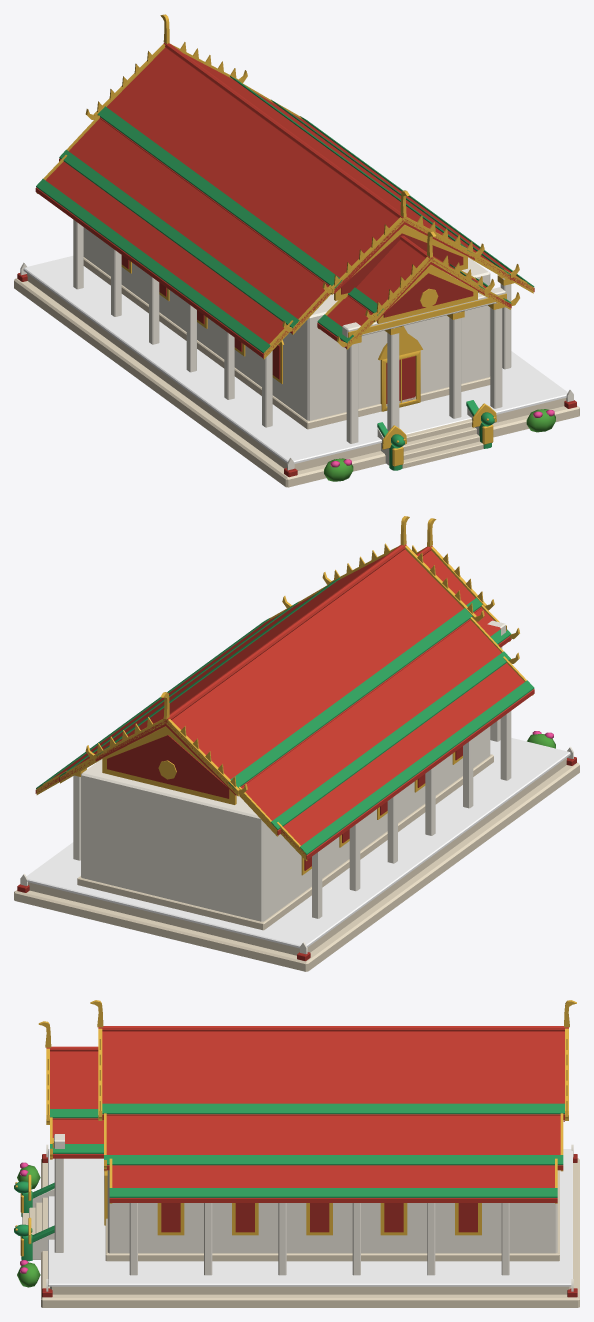
Rendered from bld_temple.glb.
3 renders of one model, top to bottom at view 1: azimuth 30°, elevation 25°; view 2: azimuth 150°, elevation 25°; view 3: azimuth 270°, elevation 25°, orthographic.
Visible parts, largest first — view 1: body; view 2: body; view 3: body.
Boxes of the visible parts, x1,y1,x2,y2 form: body: (14,14,579,487); body: (14,516,579,971); body: (14,1000,579,1307).
Bounding box in the file's own units: 18 × 14.03 × 30.44.
